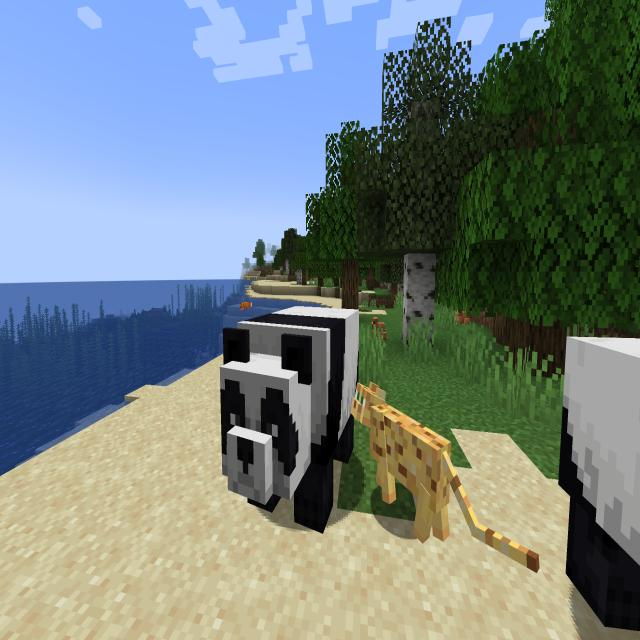Fox: (238, 296, 254, 314)
Ocelot: (350, 376, 544, 584)
Panda: (219, 289, 362, 536), (558, 313, 640, 640)
